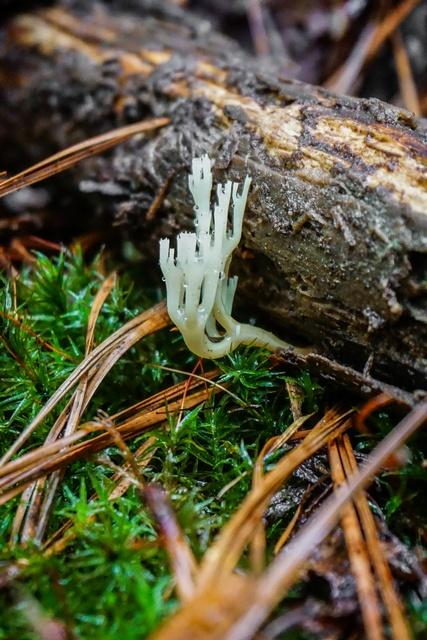edible_mushroom: (156, 152, 295, 360)
